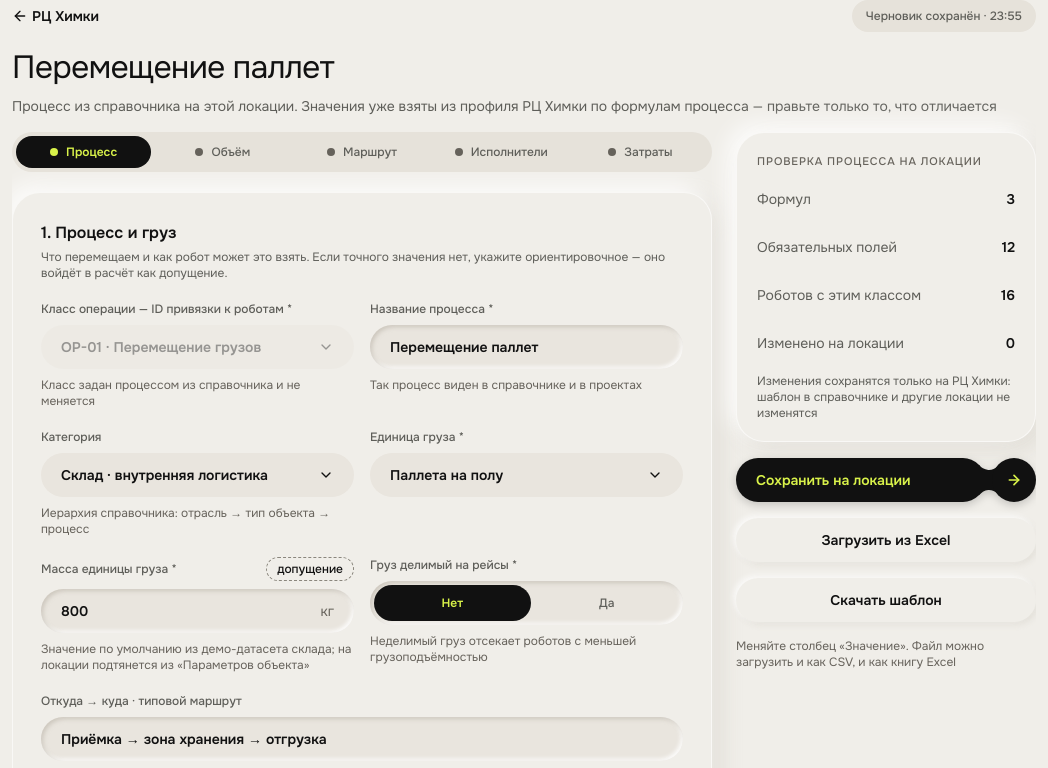
LocationProcessPage (экран 16) › shows the service refusal text instead of «повторите через минуту»
Expected: the heading "Перемещение паллет" is shown, [12,47,334,88]
Step 1. Click the button "Сохранить на локации" → (886,480), box [736,458,1036,502]
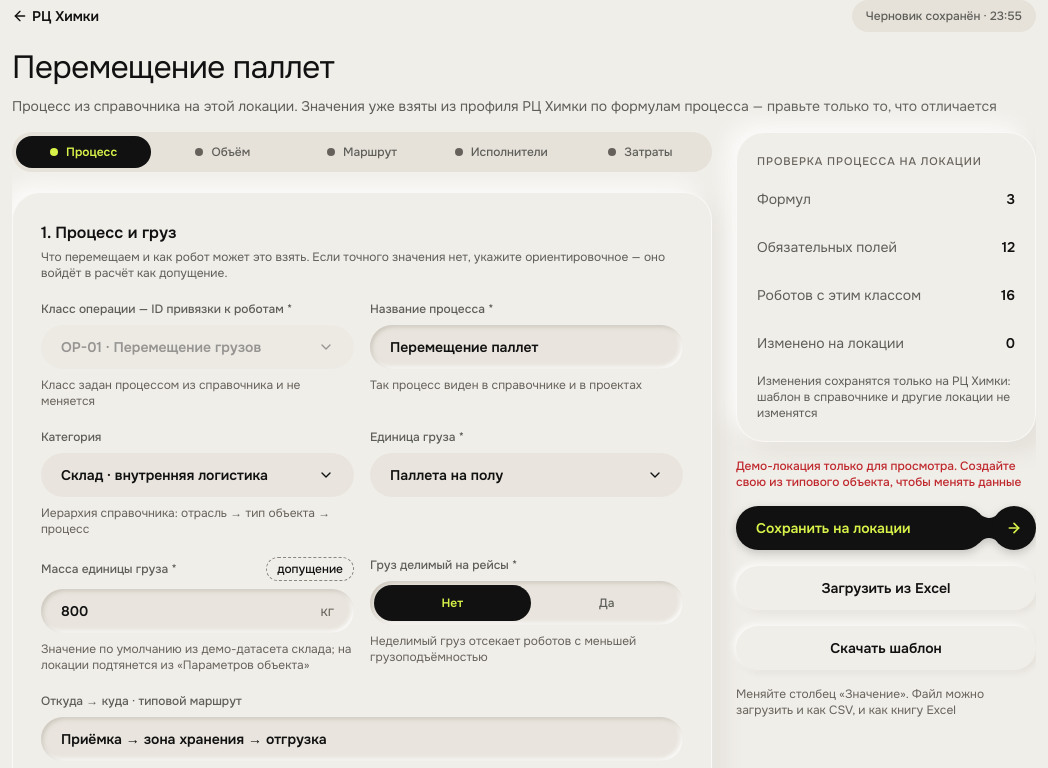
Result: the 2nd message shows "Демо-локация только для просмотра. Создайте свою из типового объекта, чтобы менять данные" at [736,458,1021,490]
